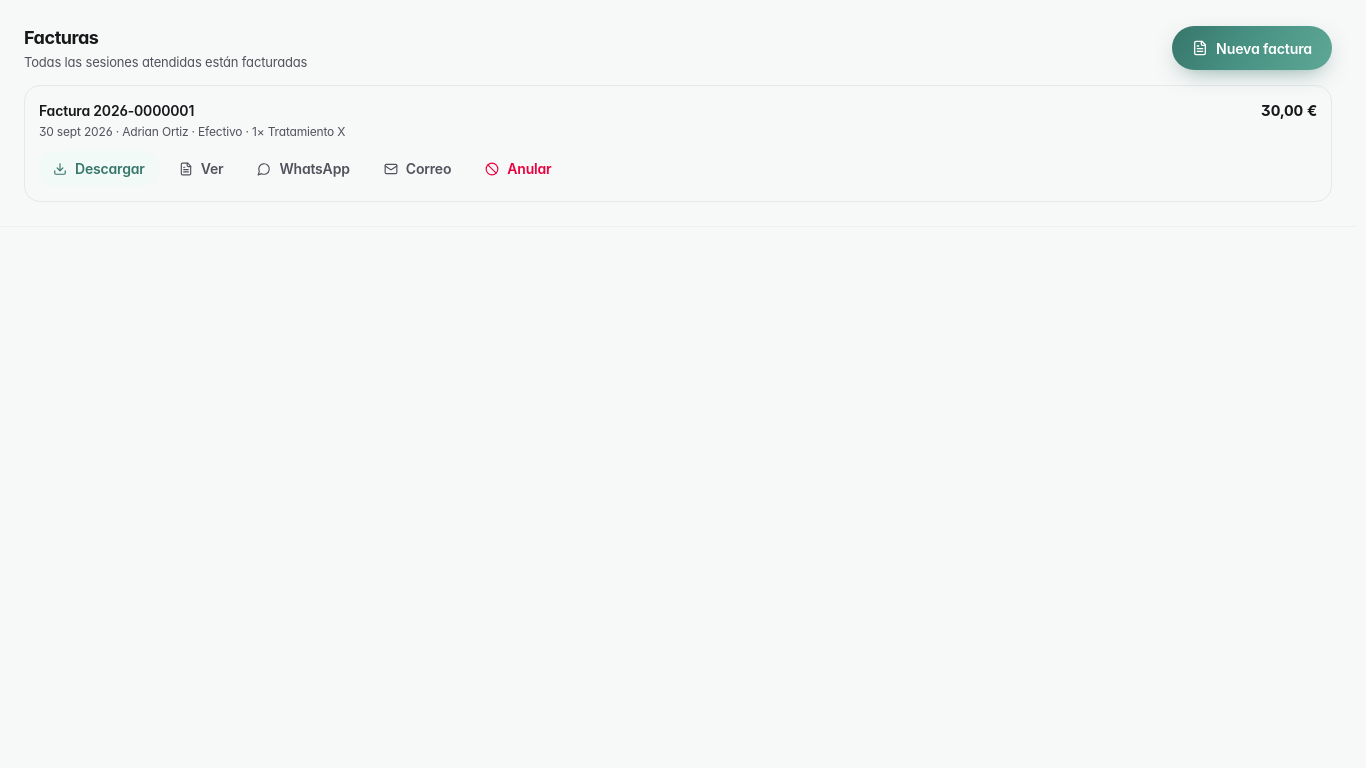
Scenario: anular una factura › si el servidor falla, el error sale dentro del diálogo
Click the button "Anular" at (518, 168), box top-left (471, 150), bottom-right (566, 186)
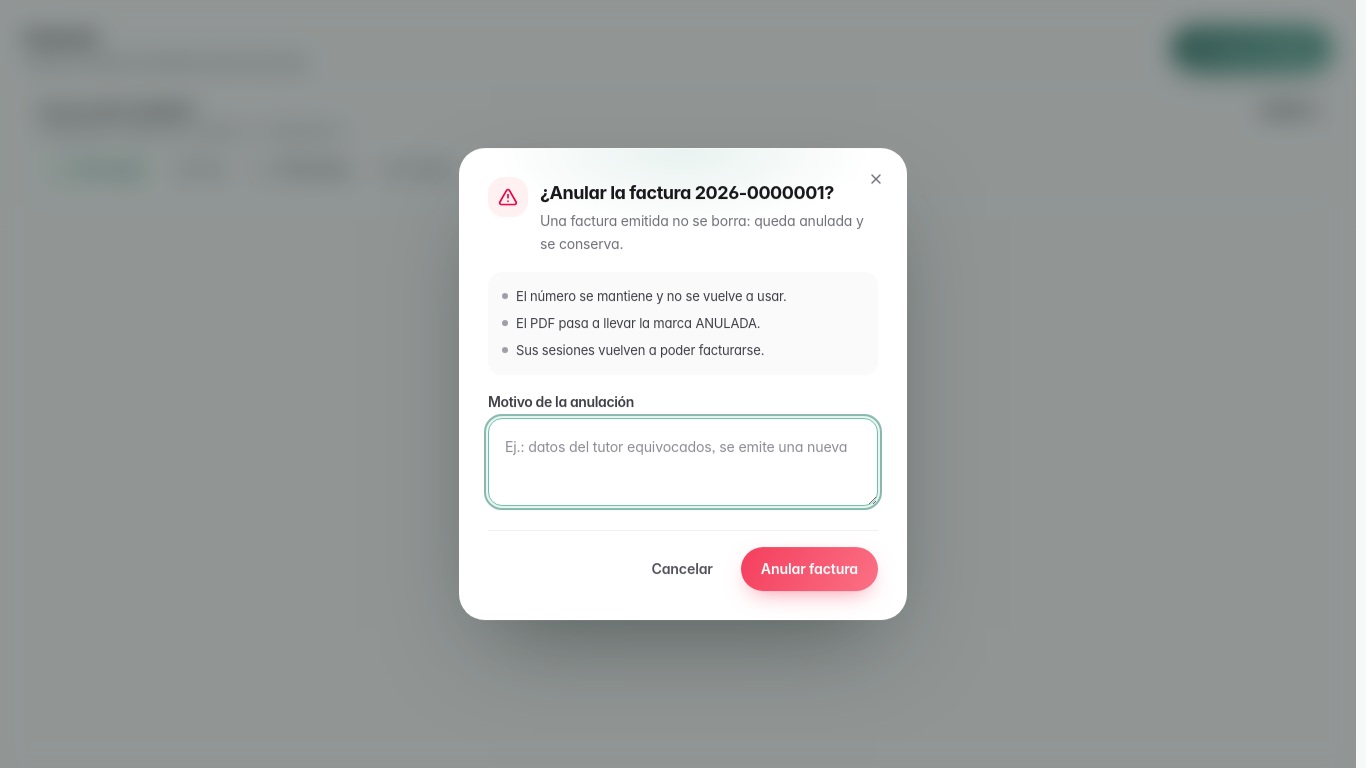
Type "Prueba" into the text box labelled "Motivo de la anulación" at (683, 462), box top-left (488, 418), bottom-right (878, 506)
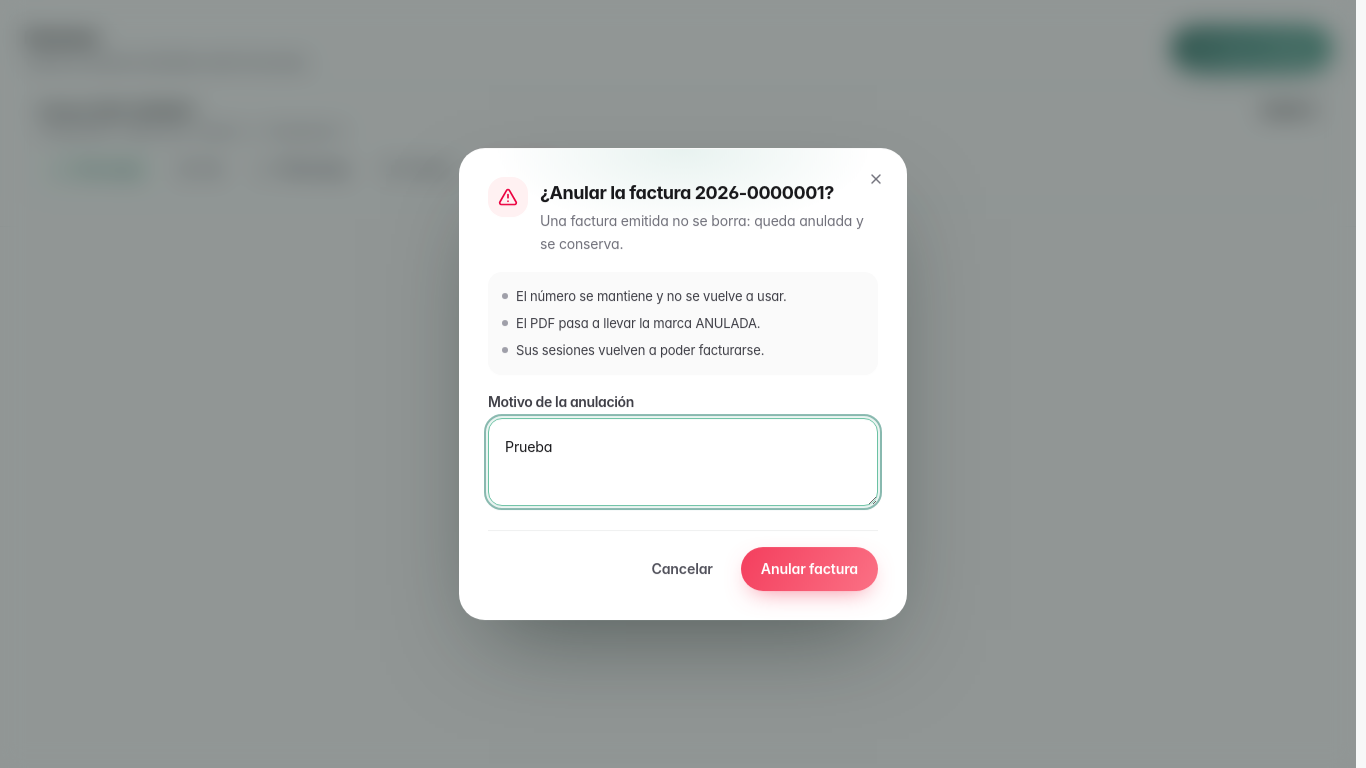
Click the button "Anular factura" at (809, 569), box top-left (741, 547), bottom-right (878, 591)
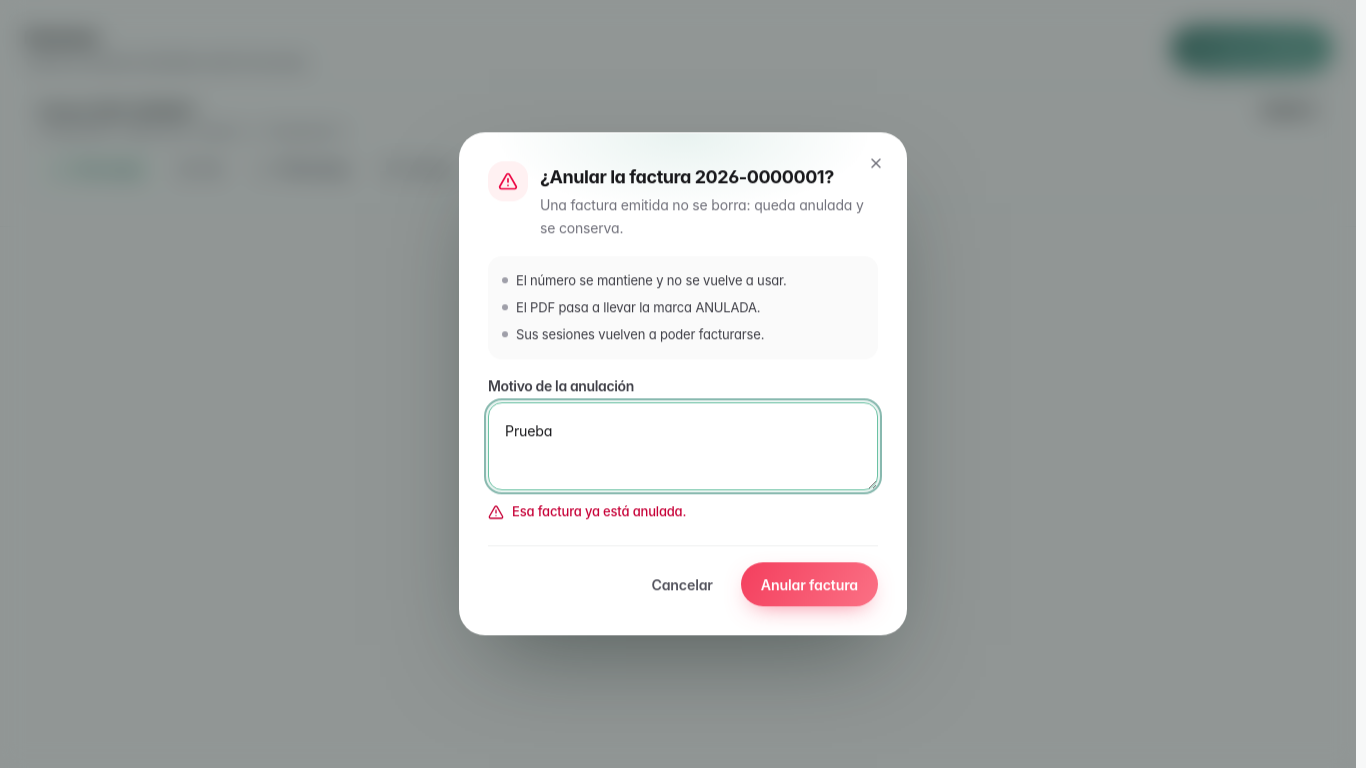
Result: the heading "¿Anular la factura 2026-0000001?" is shown at top-left (540, 163), bottom-right (878, 190)
Result: the text "Esa factura ya está anulada." is shown at top-left (488, 503), bottom-right (686, 520)
